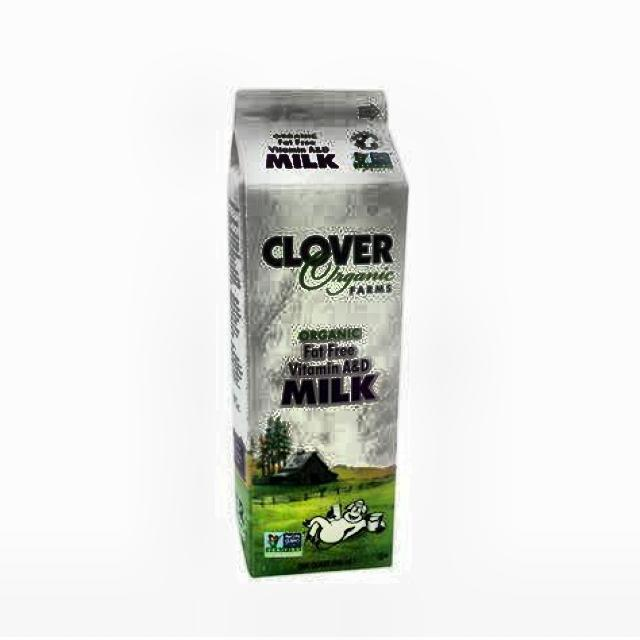cardboard: (225, 88, 408, 576)
